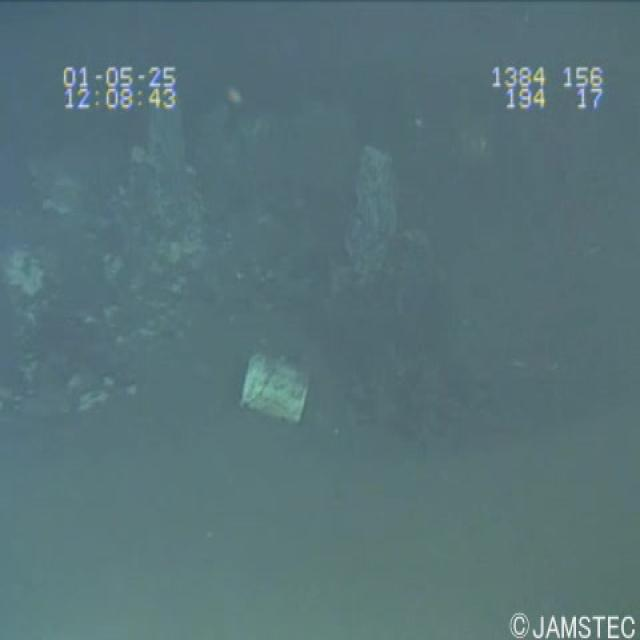plastic: (229, 341, 320, 439)
